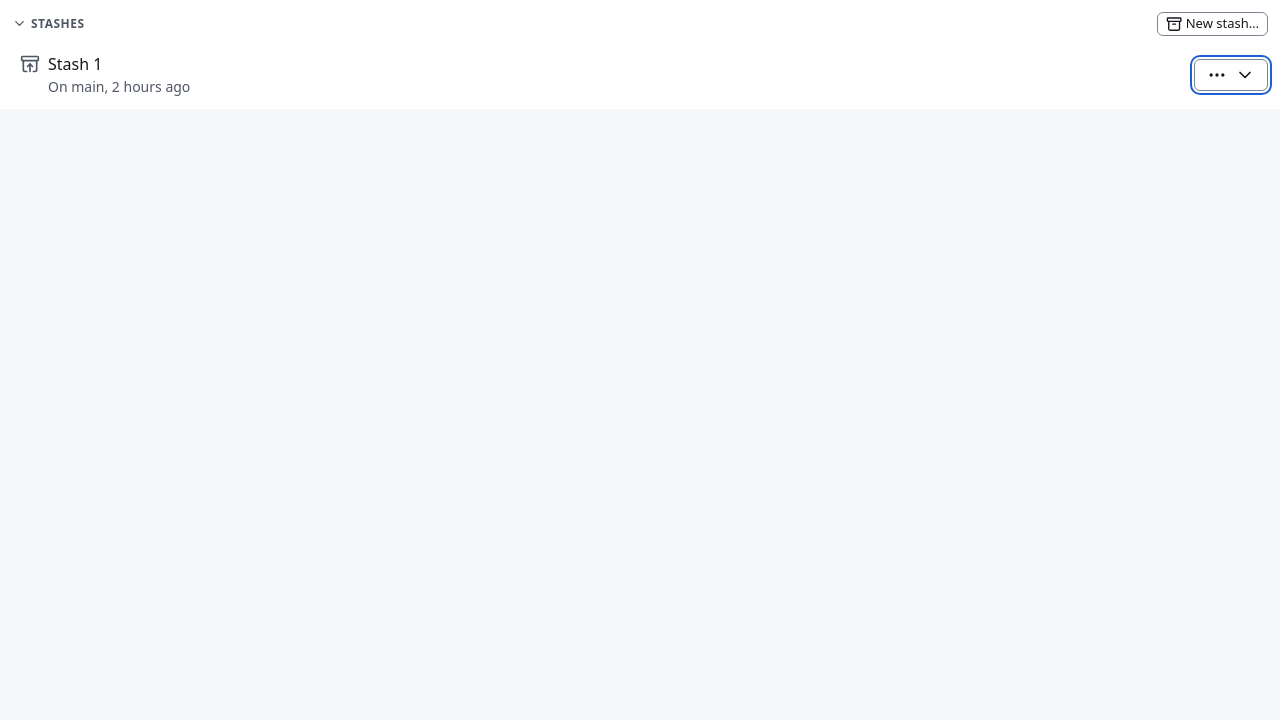
Test case: dropping the last stash hands focus to New stash, and the Widget says there are none
Check: the button named "Actions for Stash 1" is shown, box [1194, 58, 1268, 90]
Press Enter
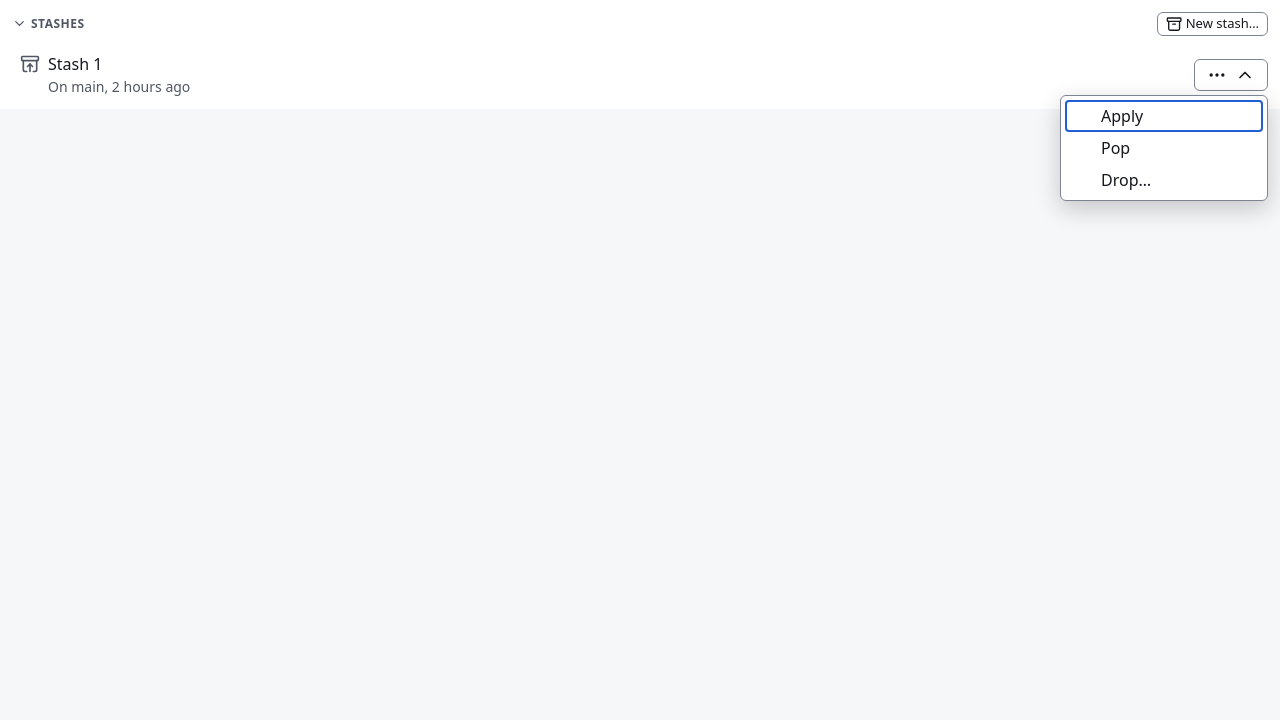
Press Arrowdown
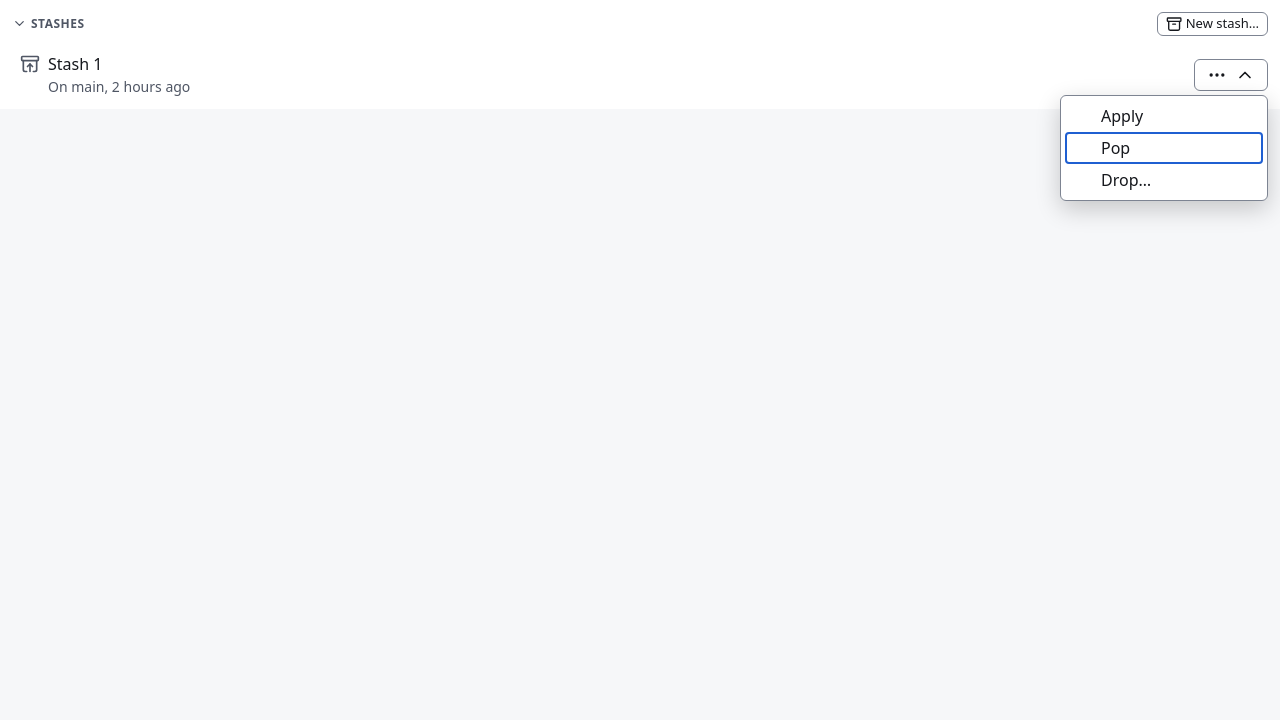
Press Arrowdown
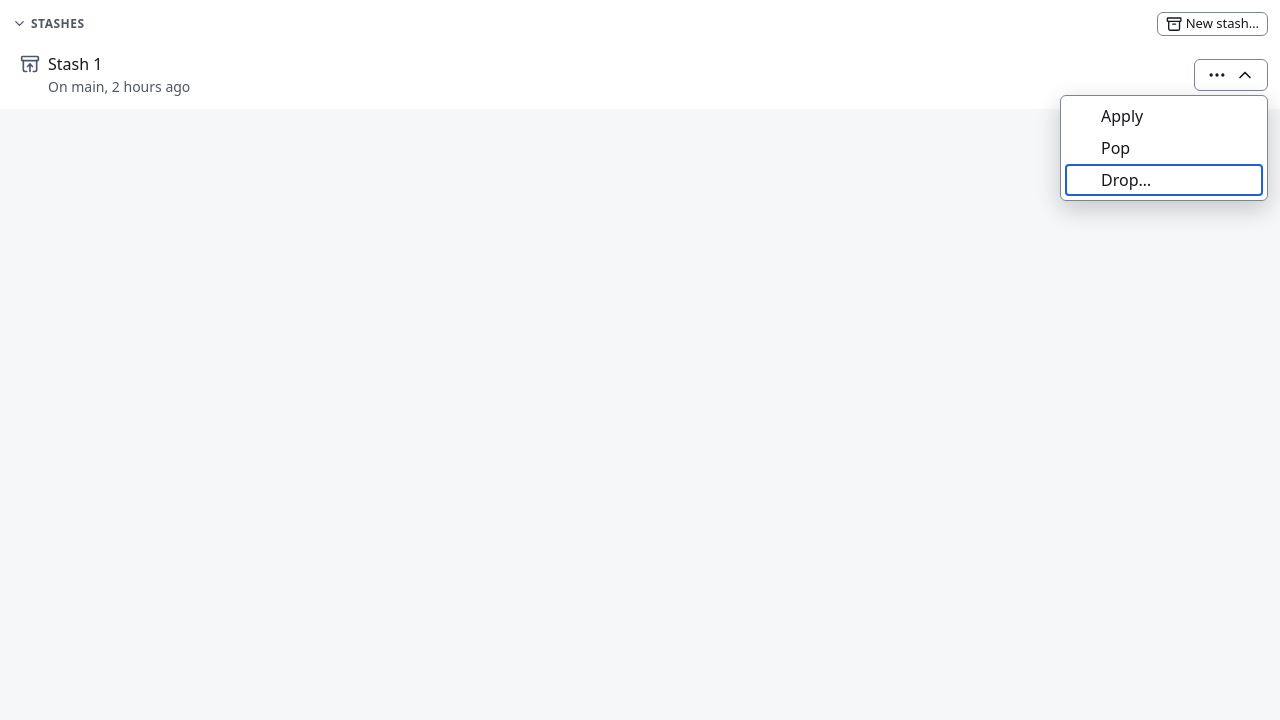
Press Enter
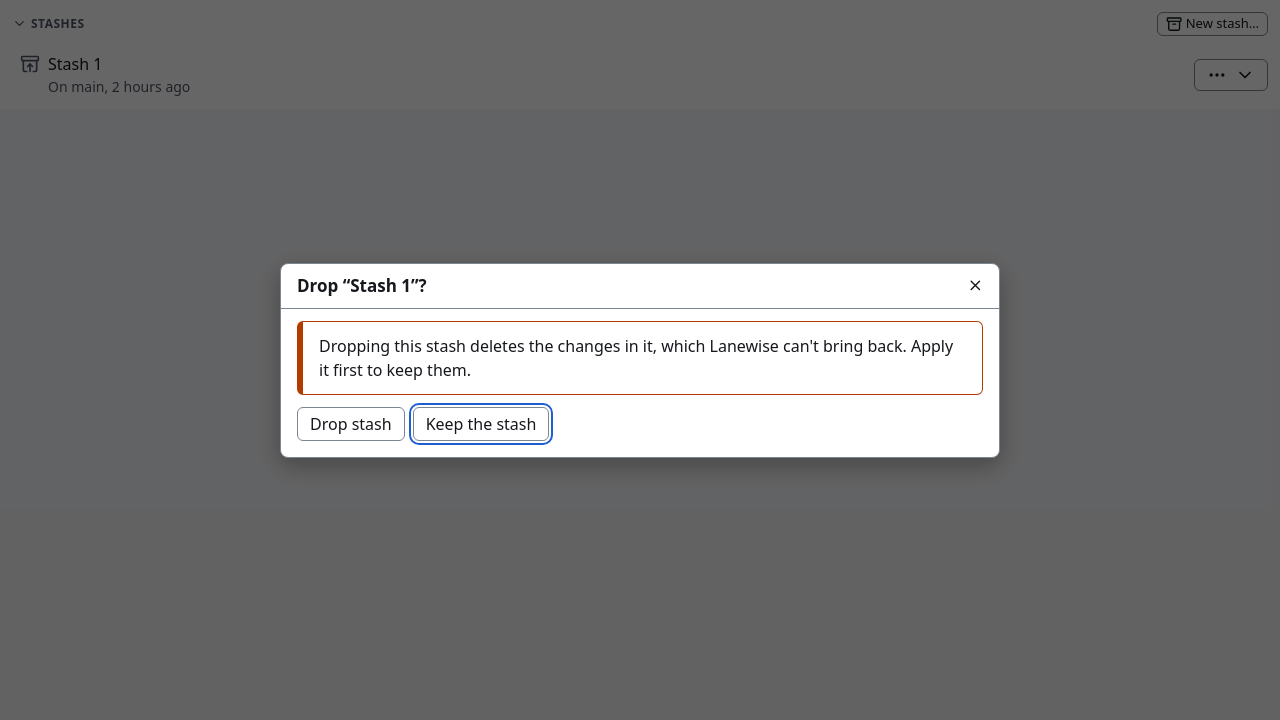
Click the button "Drop stash" at [351, 424], box [297, 406, 405, 440]
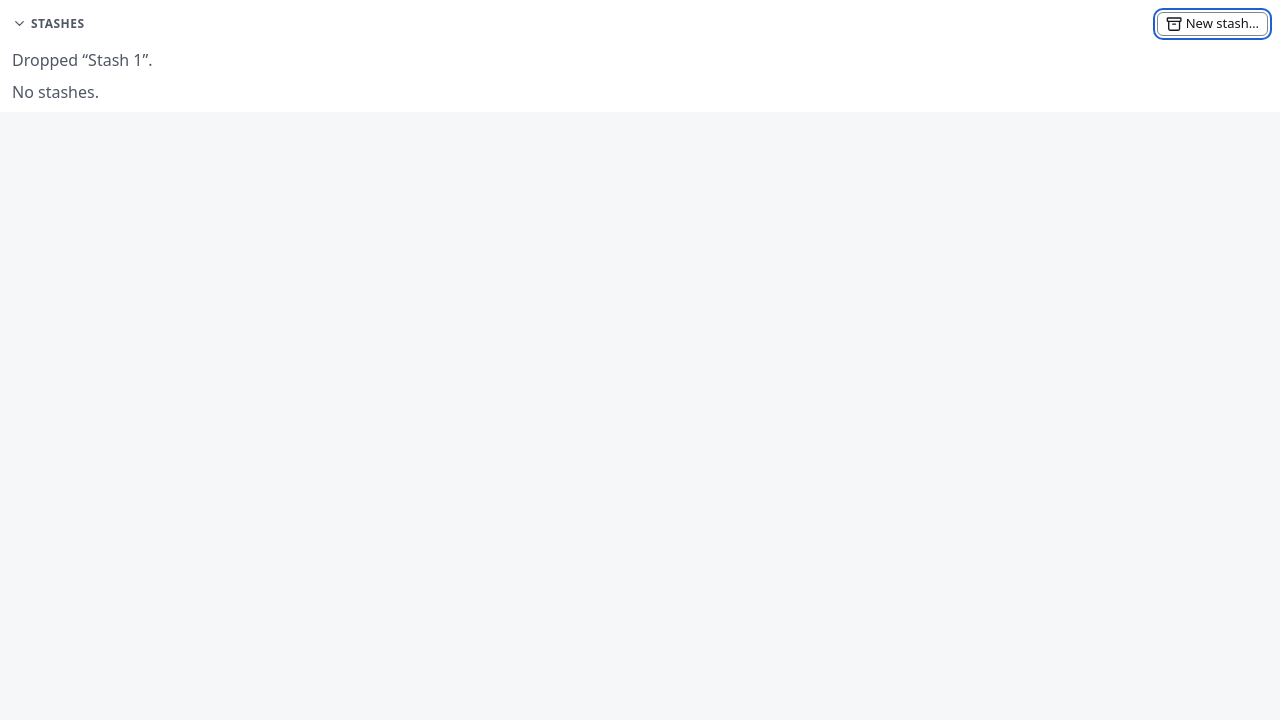
Check: the text "No stashes." is shown, box [12, 81, 99, 103]
